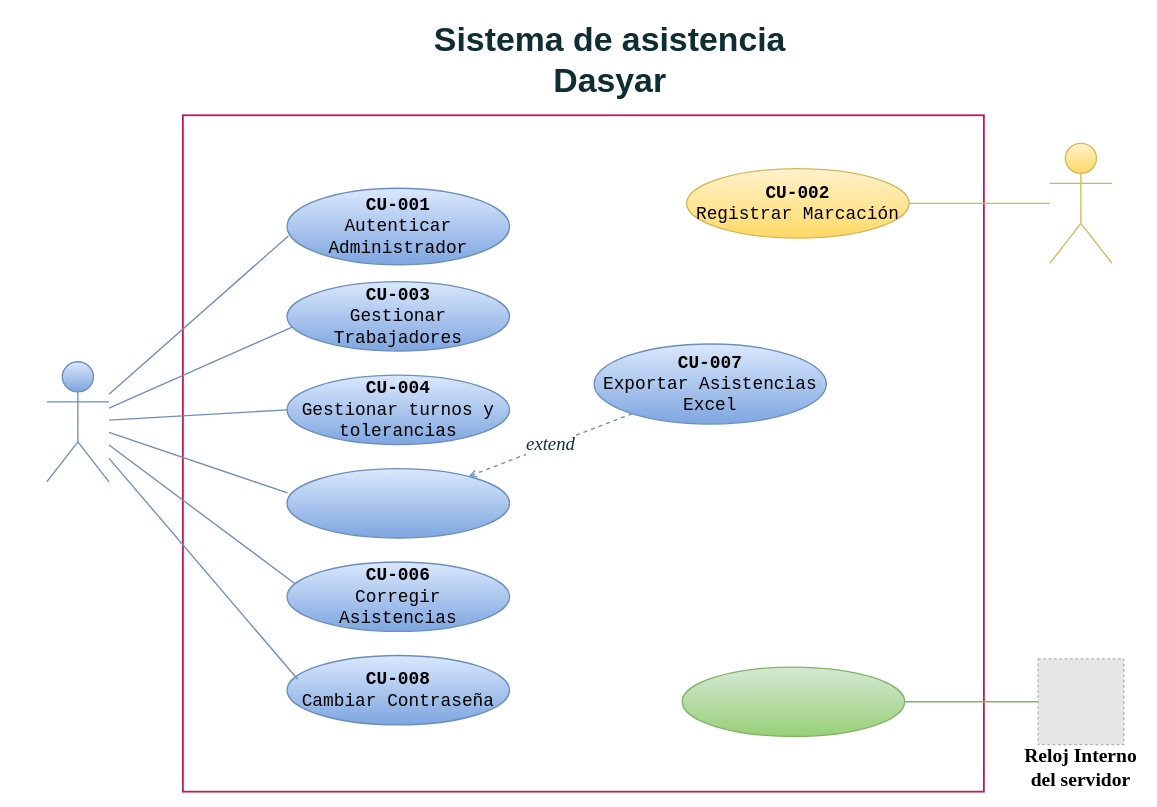
This 1157x807 diagram has some shape labels left out. Grey dashed boxes stand in for pictures. Each missing label, with the centre of its shape:
Administrador: the point at 77,421
CU-005 Generar reportes: the point at 398,503
CU-009 Calcular faltas y horas extras: the point at 793,701
Trabajador: the point at 1080,203
